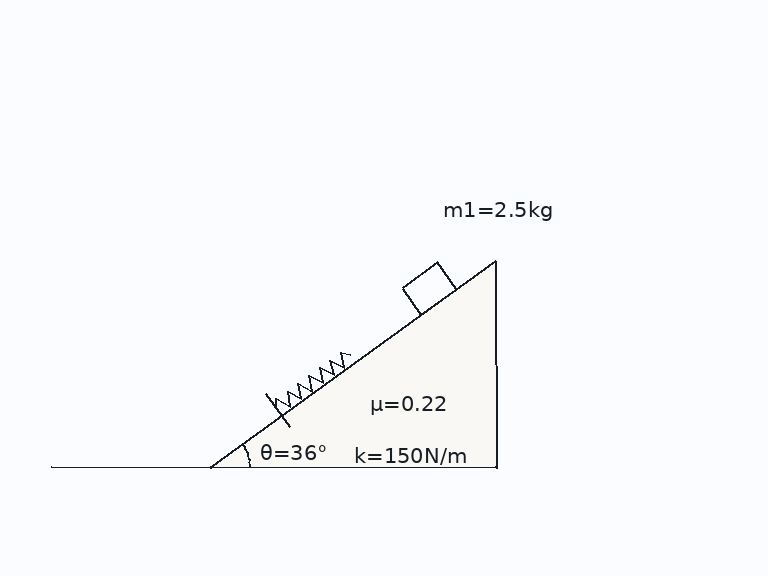block: (400, 260, 458, 316)
ramp: (208, 258, 498, 469)
spring: (274, 350, 352, 410)
